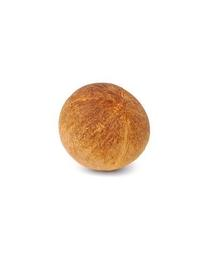coconut: (57, 82, 154, 173)
